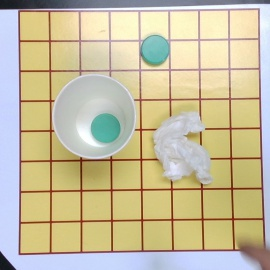cup_green: (53, 74, 138, 161)
green: (142, 36, 169, 63)
